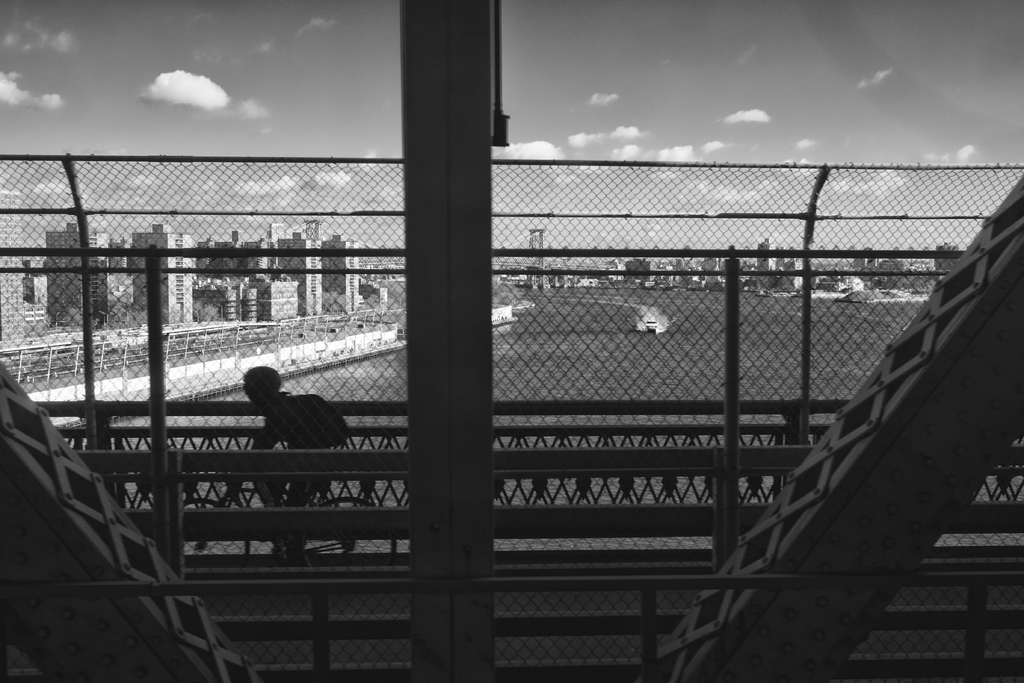person: (235, 363, 349, 450)
